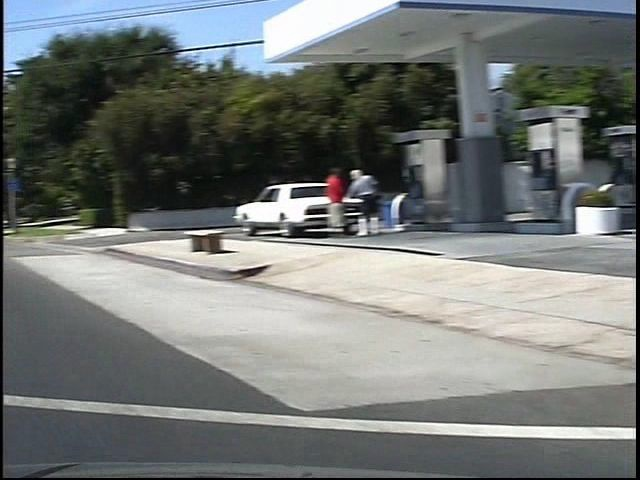person: (325, 167, 364, 243), (303, 163, 333, 243)
